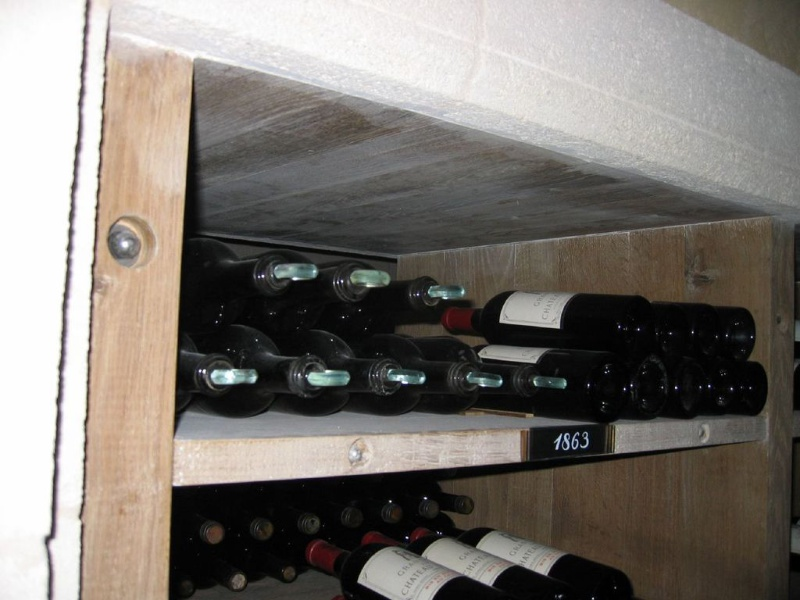wine: (174, 216, 774, 415), (172, 485, 696, 600)
